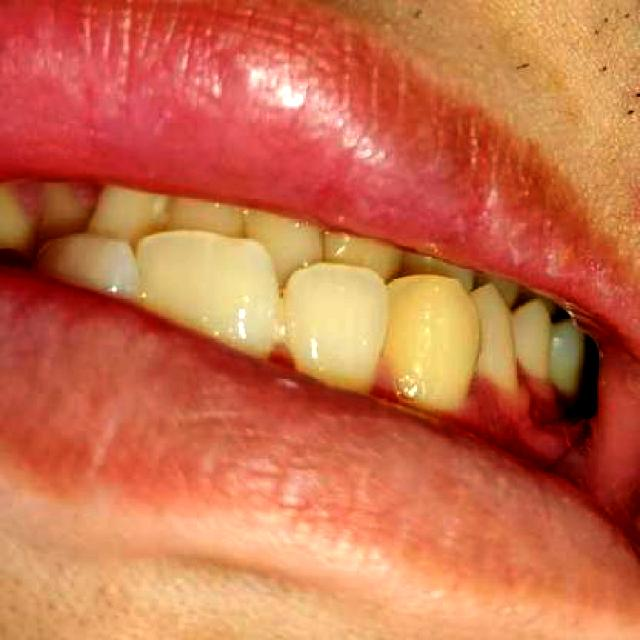Plaque: (360, 347, 410, 413), (256, 329, 308, 383)
